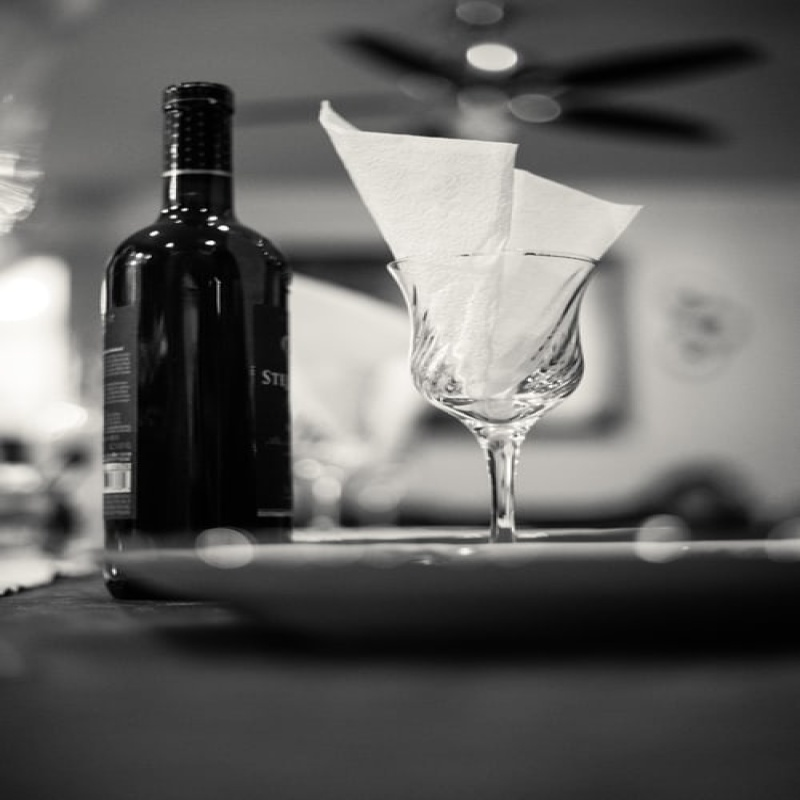wine: (110, 82, 300, 566)
